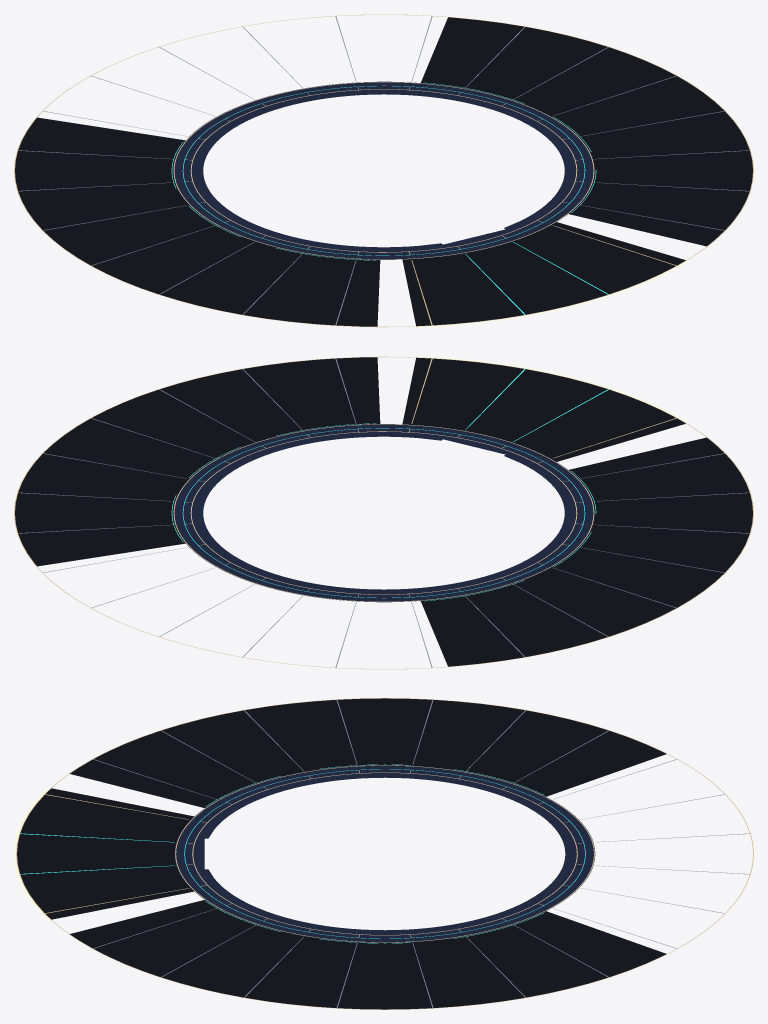
File: floor.glb
3 renders of one model, top to bottom at view 1: azimuth 30°, elevation 25°; view 2: azimuth 150°, elevation 25°; view 3: azimuth 270°, elevation 25°, orthographic.
Visible parts, largest first — view 1: ArenaFloor_Panel_Left, ArenaFloor_Panel_Right, ArenaFloor_Panel_Front, ArenaFloor_CentralRing, ArenaFloor_PanelDivisions, ArenaFloor_Trim_Gold, ArenaFloor_OuterRing, ArenaFloor_LED_Cyan; view 2: ArenaFloor_Panel_Right, ArenaFloor_Panel_Left, ArenaFloor_Panel_Front, ArenaFloor_CentralRing, ArenaFloor_PanelDivisions, ArenaFloor_Trim_Gold, ArenaFloor_OuterRing, ArenaFloor_LED_Cyan; view 3: ArenaFloor_Panel_Left, ArenaFloor_Panel_Right, ArenaFloor_Panel_Front, ArenaFloor_CentralRing, ArenaFloor_PanelDivisions, ArenaFloor_Trim_Gold, ArenaFloor_OuterRing, ArenaFloor_LED_Cyan, ArenaFloor_FrontGuideLines.
Boxes of the visible parts, x1=… form: ArenaFloor_Panel_Left: x1=15, y1=117, x2=380, y2=326; ArenaFloor_Panel_Right: x1=421, y1=17, x2=752, y2=246; ArenaFloor_Panel_Front: x1=402, y1=222, x2=685, y2=326; ArenaFloor_CentralRing: x1=173, y1=81, x2=594, y2=259; ArenaFloor_PanelDivisions: x1=18, y1=16, x2=749, y2=325; ArenaFloor_Trim_Gold: x1=173, y1=82, x2=594, y2=259; ArenaFloor_OuterRing: x1=14, y1=14, x2=753, y2=327; ArenaFloor_LED_Cyan: x1=171, y1=82, x2=596, y2=260; ArenaFloor_Panel_Right: x1=15, y1=357, x2=380, y2=566; ArenaFloor_Panel_Left: x1=421, y1=437, x2=752, y2=666; ArenaFloor_Panel_Front: x1=402, y1=357, x2=685, y2=461; ArenaFloor_CentralRing: x1=173, y1=424, x2=594, y2=602; ArenaFloor_PanelDivisions: x1=18, y1=358, x2=749, y2=667; ArenaFloor_Trim_Gold: x1=173, y1=424, x2=594, y2=601; ArenaFloor_OuterRing: x1=14, y1=356, x2=753, y2=669; ArenaFloor_LED_Cyan: x1=171, y1=423, x2=596, y2=601; ArenaFloor_Panel_Left: x1=70, y1=698, x2=666, y2=807; ArenaFloor_Panel_Right: x1=70, y1=900, x2=666, y2=1009; ArenaFloor_Panel_Front: x1=17, y1=788, x2=193, y2=919; ArenaFloor_CentralRing: x1=174, y1=765, x2=595, y2=942; ArenaFloor_PanelDivisions: x1=93, y1=699, x2=749, y2=1008; ArenaFloor_Trim_Gold: x1=175, y1=765, x2=594, y2=942; ArenaFloor_OuterRing: x1=16, y1=698, x2=753, y2=1009; ArenaFloor_LED_Cyan: x1=184, y1=764, x2=585, y2=943; ArenaFloor_FrontGuideLines: x1=20, y1=794, x2=188, y2=913.
Size of what is drawn, in the model's own units: 24.56 by 0 by 24.63.
